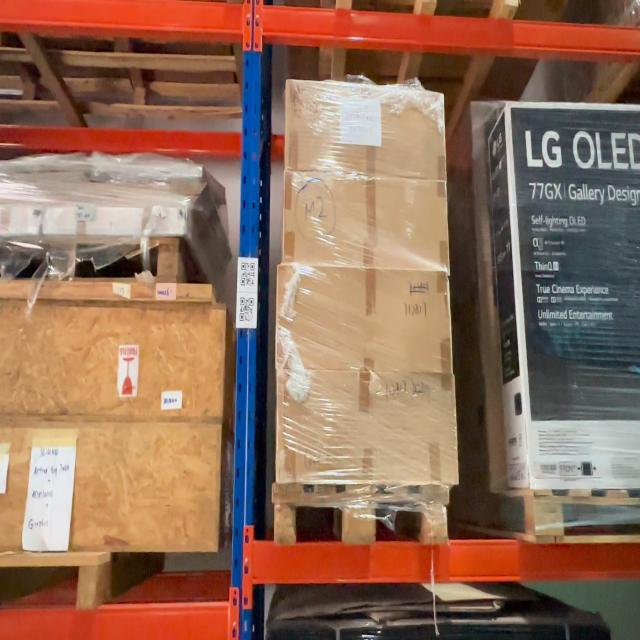box: (276, 378, 456, 482), (278, 269, 450, 374), (284, 188, 448, 266), (284, 96, 444, 172)
